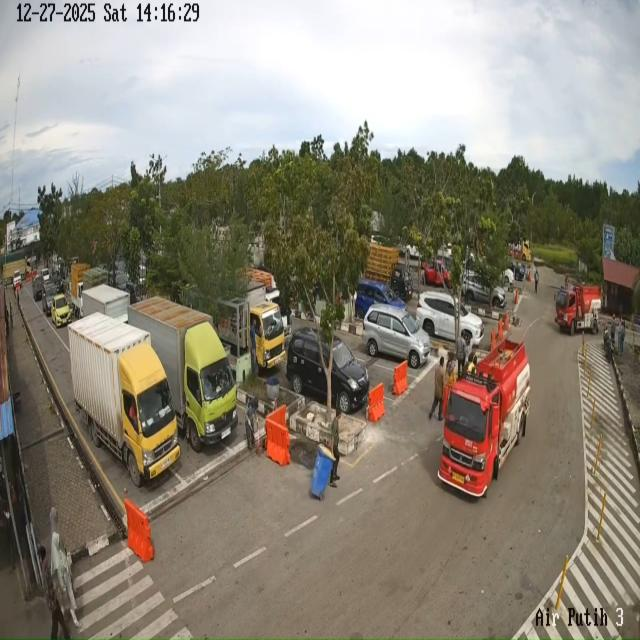Golongan IVA: (286, 327, 370, 414), (362, 304, 430, 369), (416, 291, 484, 347), (355, 280, 406, 319), (462, 272, 506, 308), (424, 260, 449, 288), (51, 294, 71, 328), (42, 280, 60, 316), (32, 274, 45, 301), (509, 261, 526, 281), (40, 268, 50, 282)
Golongan VB: (68, 313, 180, 486), (128, 297, 238, 451), (438, 340, 530, 497), (217, 281, 286, 368), (554, 284, 602, 336), (83, 284, 129, 322), (69, 263, 90, 318)
